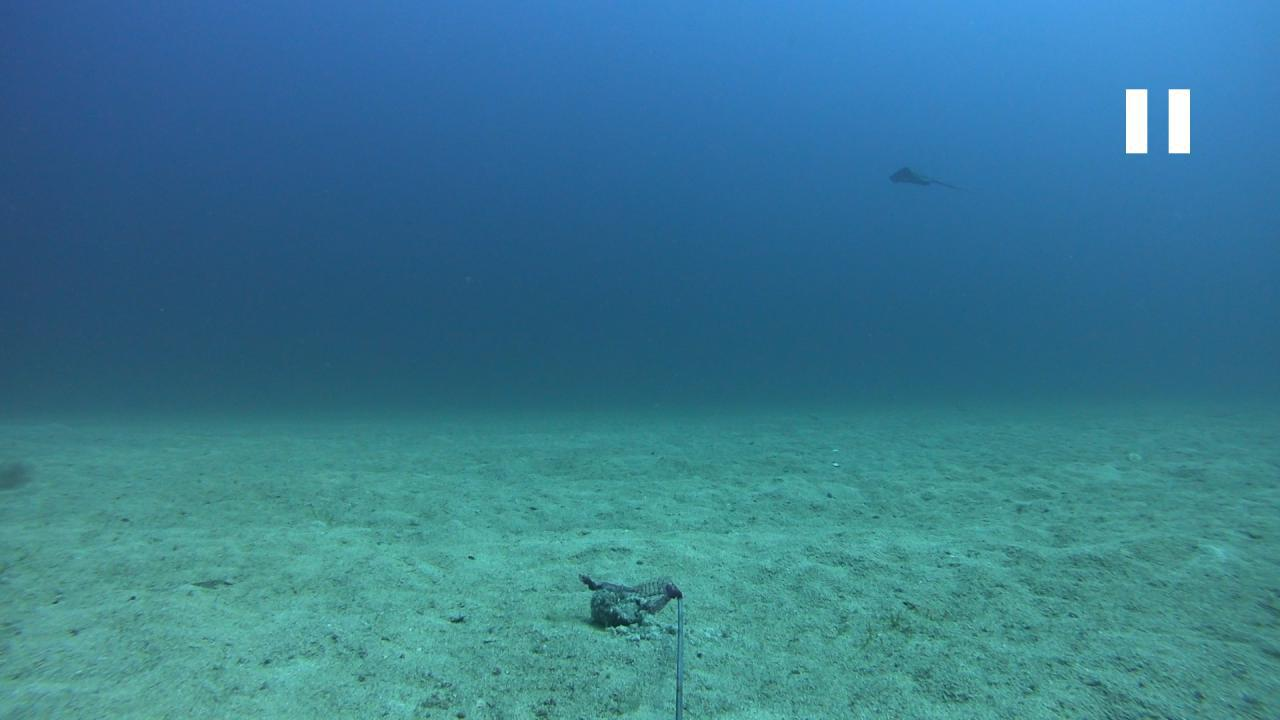dasyatis: (888, 162, 956, 190)
